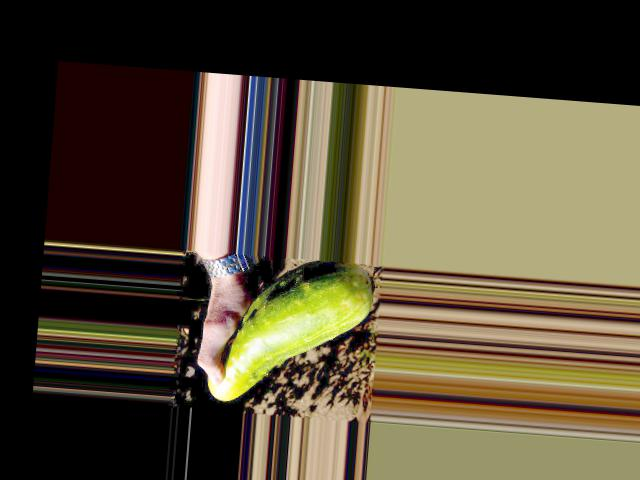cucumber: (206, 251, 376, 411)
